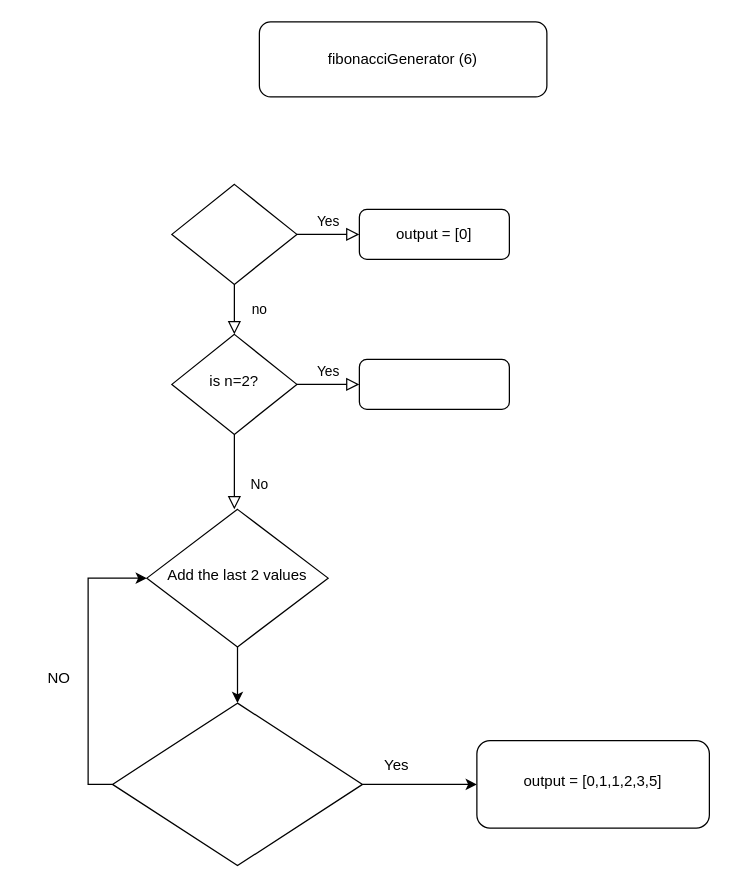
Some shapes in this 731 by 888 pixel diagram are drawn without their labels. The centre of each missing label's shape, as x and y in pixels:
"does output = n (6) ?" belongs at pixel 236 784.
"Is n=1?" belongs at pixel 234 233.
"output = [0,1]" belongs at pixel 433 383.
